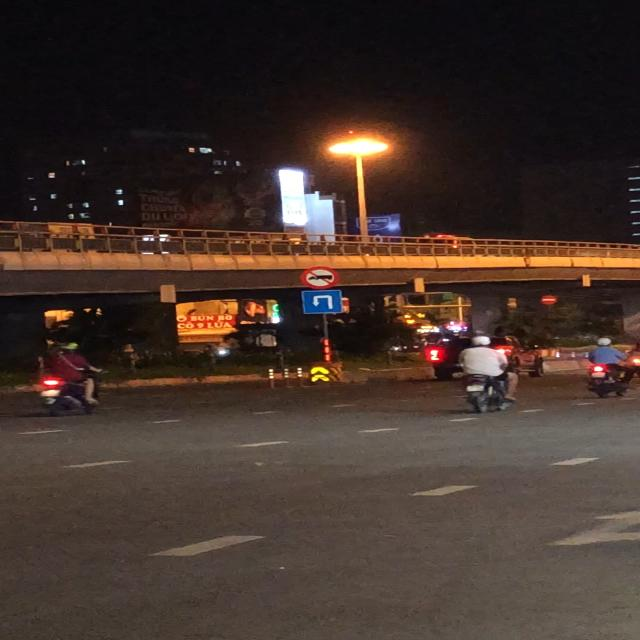Bien bao cam xe so-mi ro-mooc: (300, 266, 341, 290)
